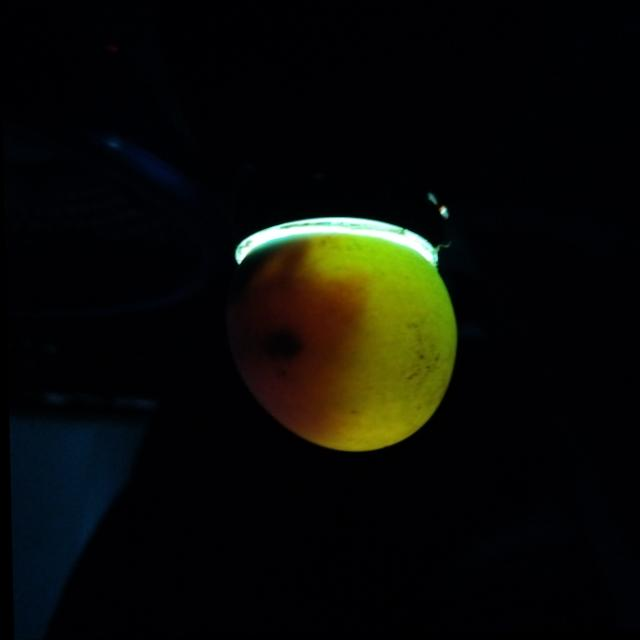Area Infectada: (224, 242, 301, 379)
